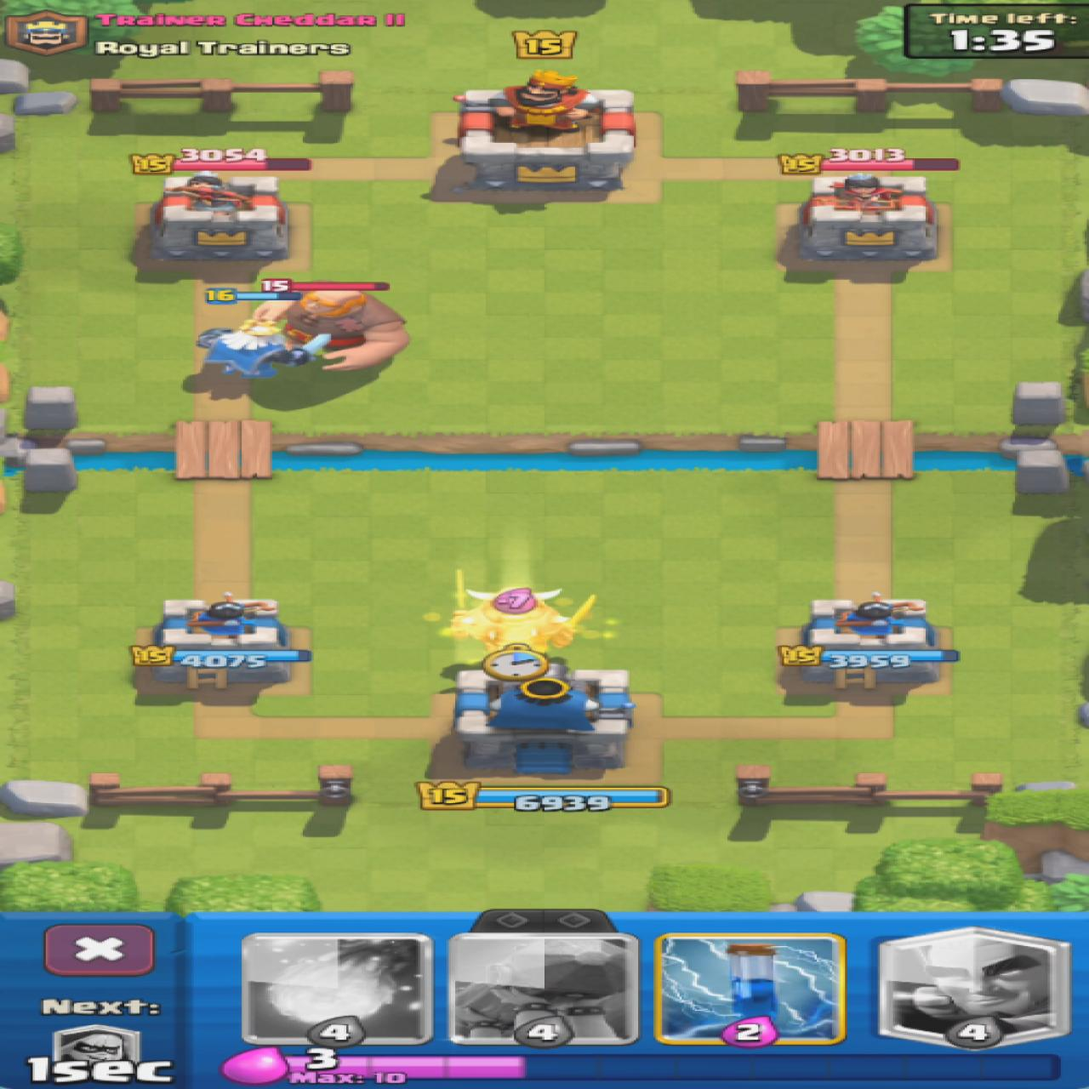Enemy-Giant: (255, 288, 407, 370)
Enemy-KingTower: (457, 71, 634, 194)
Enemy-PrincessTower: (150, 171, 287, 262), (799, 173, 934, 261)
